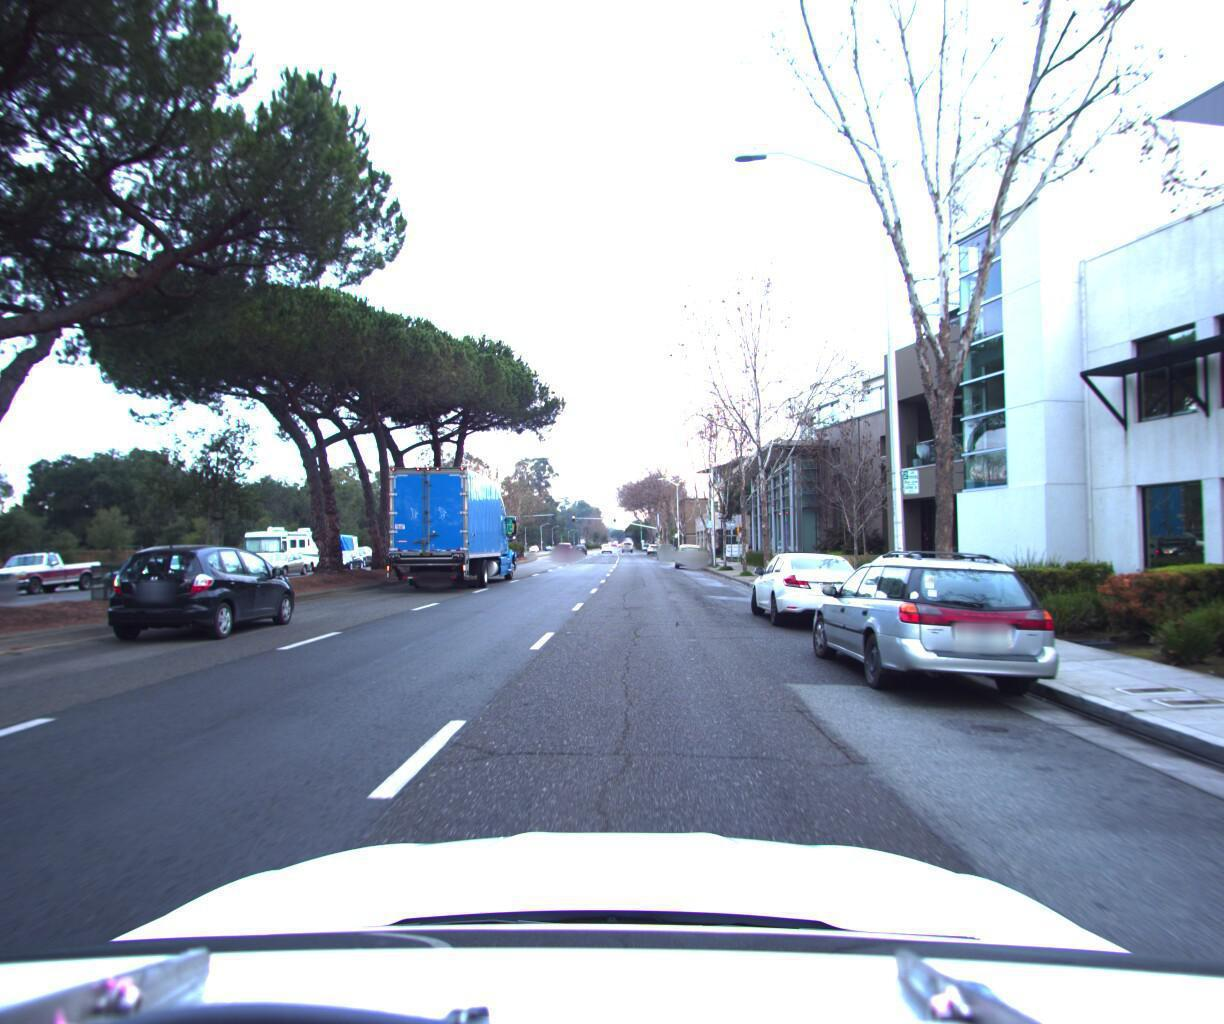car: (808, 544, 1084, 711), (110, 546, 310, 649), (744, 546, 883, 633), (0, 545, 110, 599), (245, 550, 315, 579), (326, 545, 367, 567), (676, 538, 703, 565), (551, 540, 573, 557), (658, 537, 675, 554)
other_vehicle: (234, 518, 332, 574), (301, 527, 366, 573)
truck: (369, 458, 527, 600)
